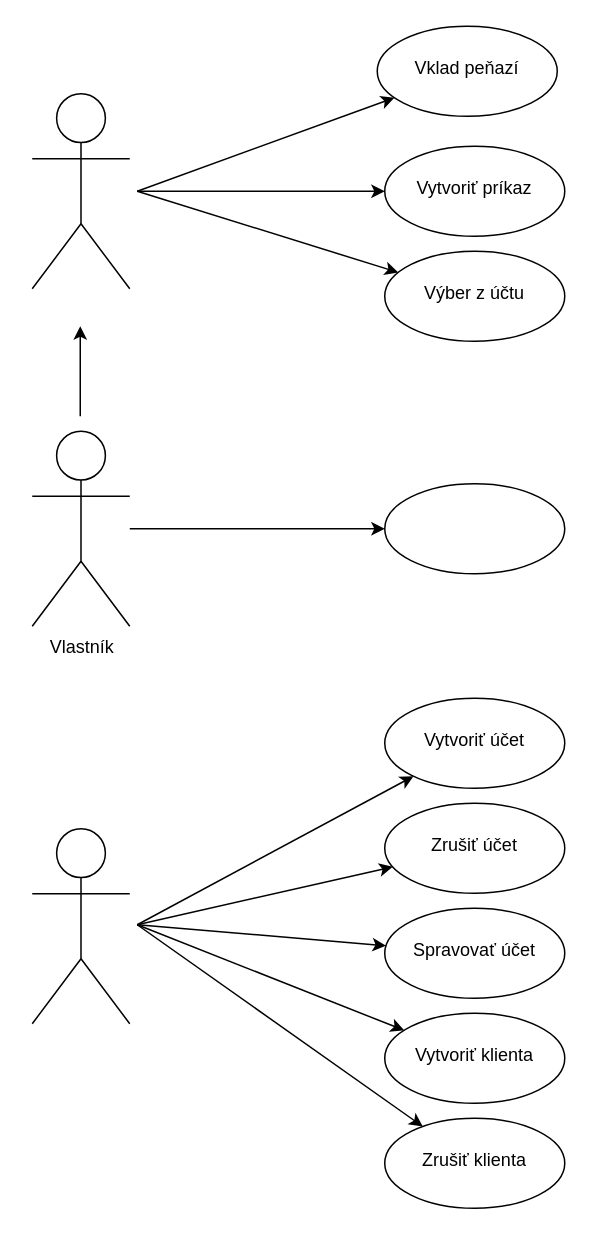
Some shapes in this 591 by 1235 pixel diagram are drawn without their labels. The shapes that lost their labels are listed below. From the top down, each one's box as (x1, y1, x2, y2) in pixels, then its label:
(31, 92, 130, 289): Disponent
(383, 482, 565, 574): Určiť disponenta
(31, 827, 130, 1024): Zamestnanec
